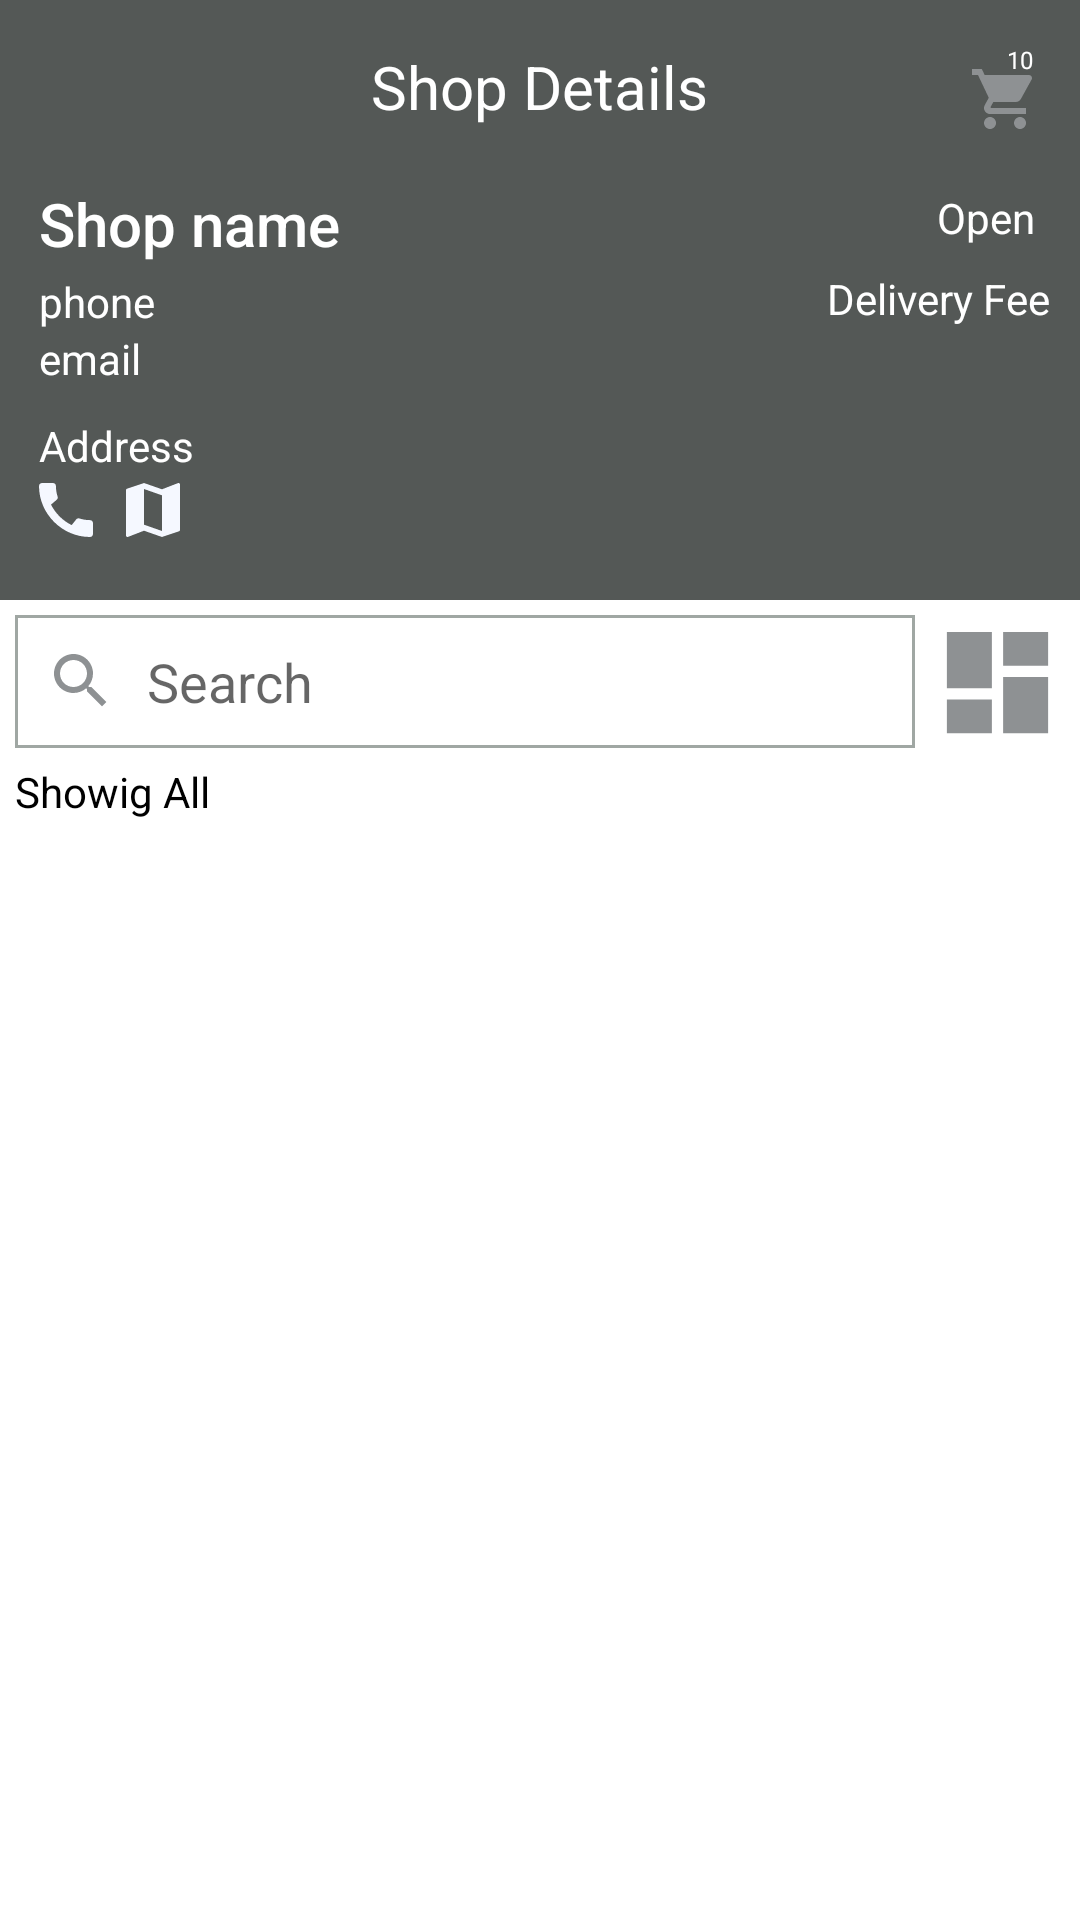

Named icons in this screenshot (1080x1920) and their centers, [x,y]:
call: [66,510]
map: [153,510]
shopping cart: [1002,91]
